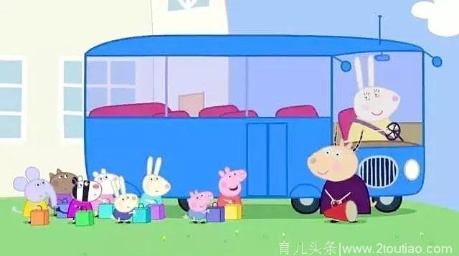Peppa: (216, 166, 246, 206)
